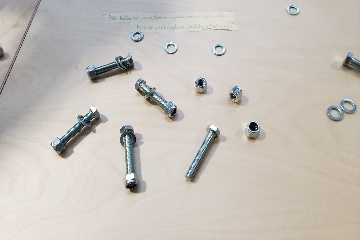Bolt: (181, 122, 222, 184)
FalseAssembly: (47, 102, 102, 158), (117, 124, 144, 192)
FinishedAssembly: (132, 78, 180, 121), (84, 51, 135, 82)
Nut: (243, 119, 262, 141), (191, 77, 210, 94), (227, 85, 243, 105)
Washer: (327, 104, 345, 124), (336, 98, 357, 115), (284, 3, 302, 18), (210, 43, 227, 57), (165, 41, 178, 56), (128, 30, 144, 42)
